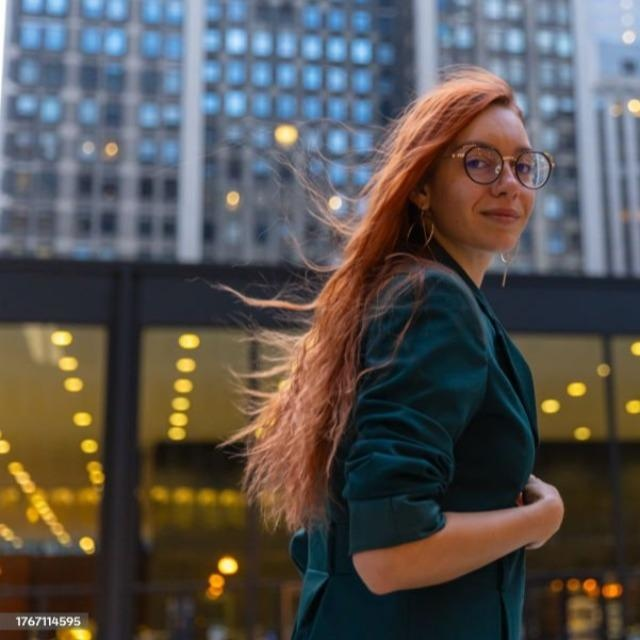Sin_Casco_Mascarrilla: (394, 70, 542, 253)
Sin_Chaleco: (306, 263, 541, 638)
